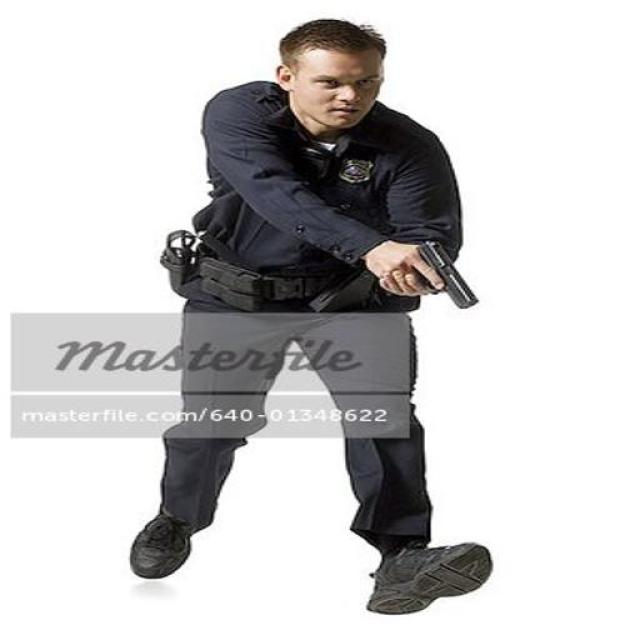pistol: (384, 232, 473, 311)
